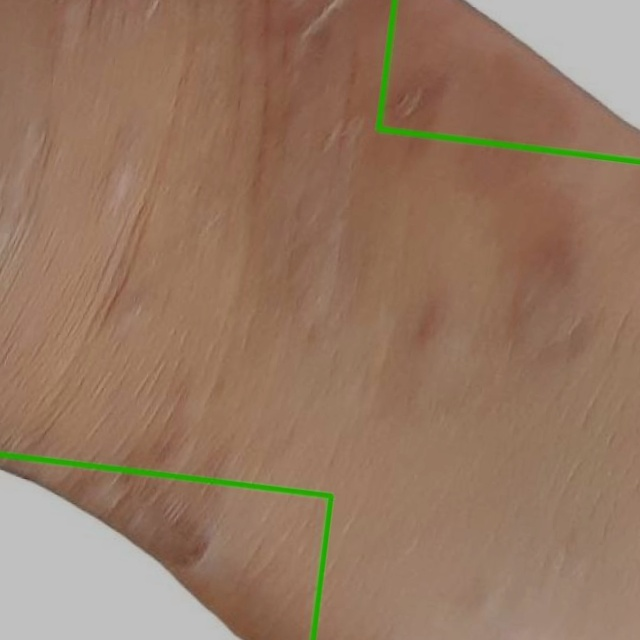Eczema: (0, 454, 331, 639), (377, 0, 639, 162)
